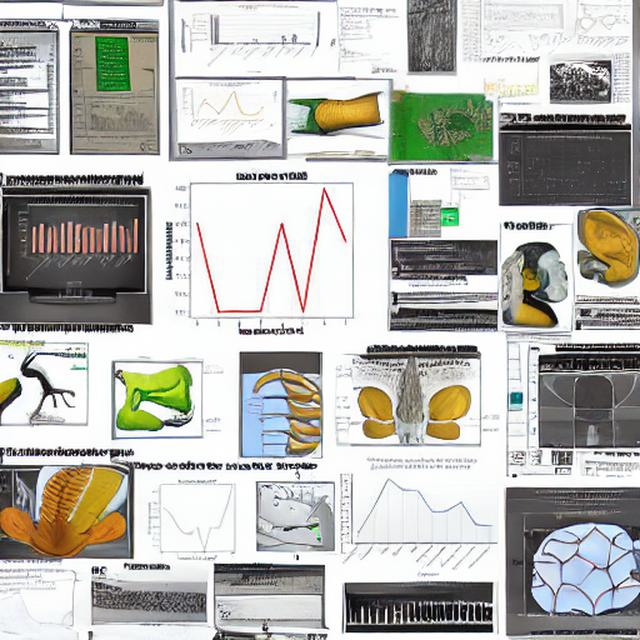Graph: (152, 162, 385, 337), (336, 456, 500, 579), (3, 202, 145, 287), (138, 474, 254, 561), (506, 134, 631, 206), (186, 3, 310, 75), (182, 80, 269, 135), (570, 14, 631, 51)
